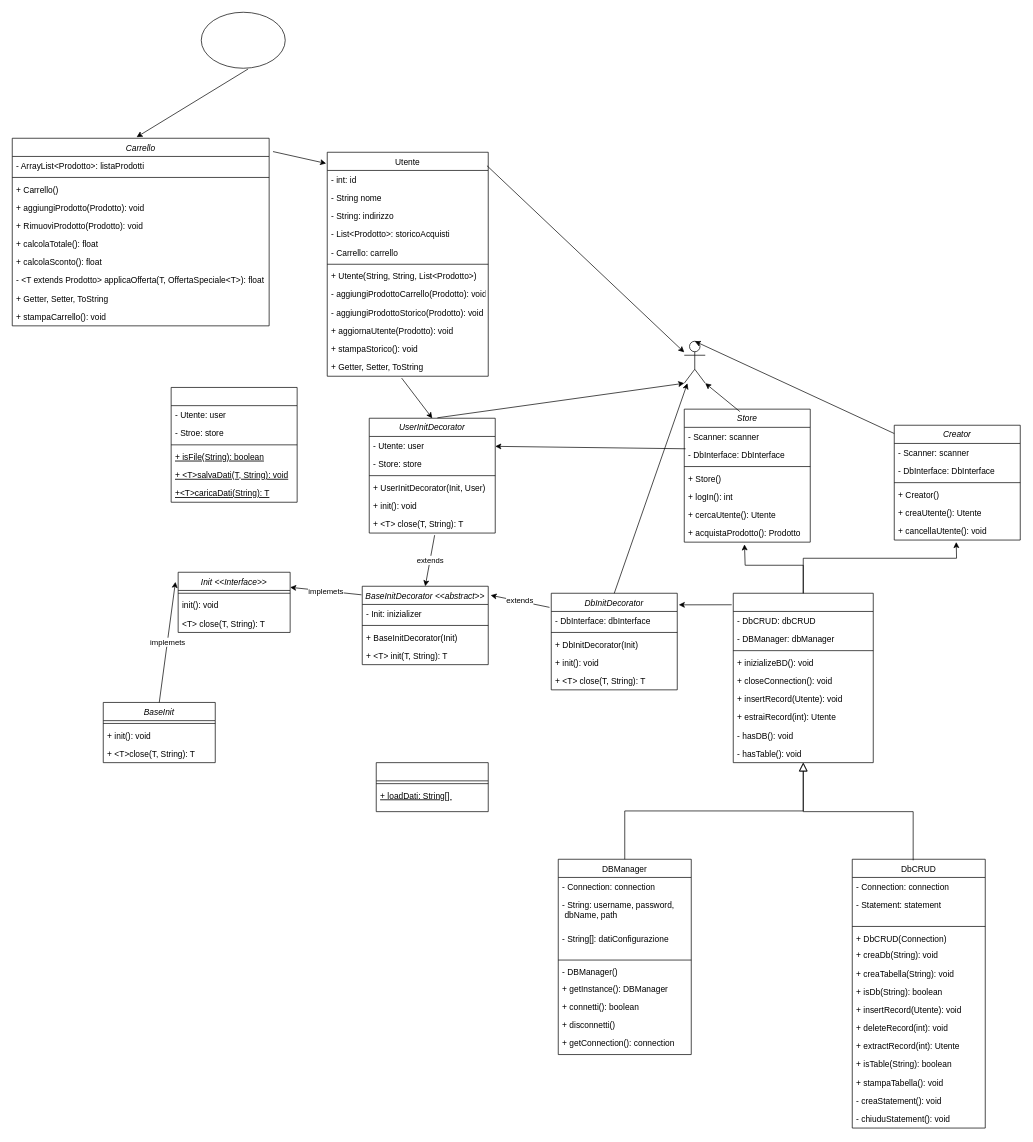
Some shapes in this 1033 by 1142 pixel diagram are drawn without their labels. Here are the shapes that lost their labels. From the top down, the box of each, then its label:
(201, 12, 285, 68): PRODOTTI...
(684, 341, 705, 383): Actor
(170, 387, 297, 502): ArchivioDati
(733, 593, 873, 763): DbInterface
(376, 762, 488, 812): DbUtility
